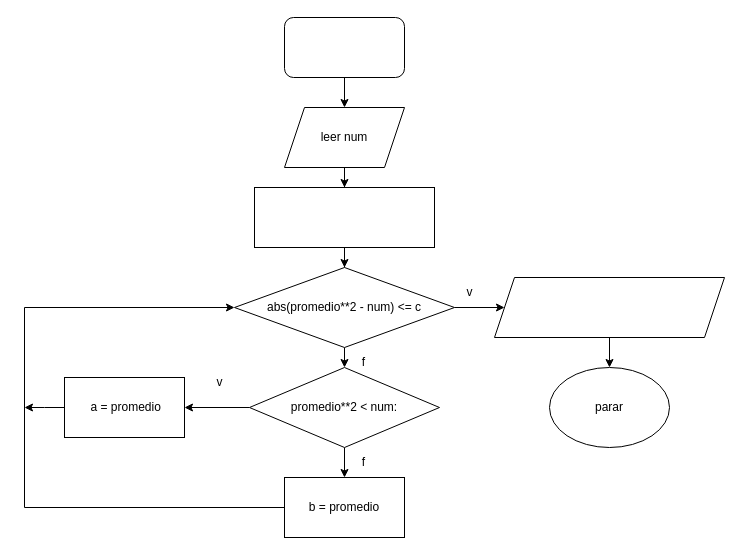
Image size: 742x555. Some labels were removed from this diagram. Here are the shapes that lost their labels. From the top down, the box of each, then its label:
(284, 16, 404, 78): inicio
(254, 186, 434, 248): a=0 ,b=num, c=0.00001
(494, 276, 724, 338): La raíz cuadrada de", num, "es:", promedio
